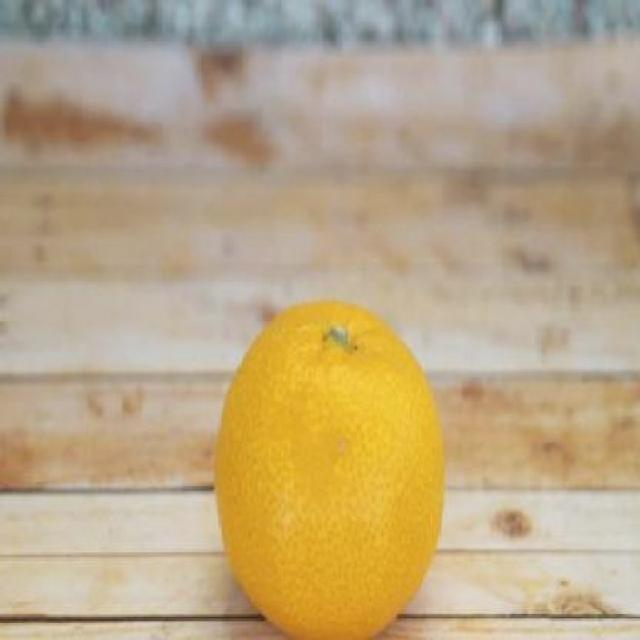Jeruk Sudah Matang: (212, 296, 446, 638)
